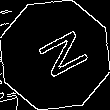N_SW: (23, 26, 87, 84)
